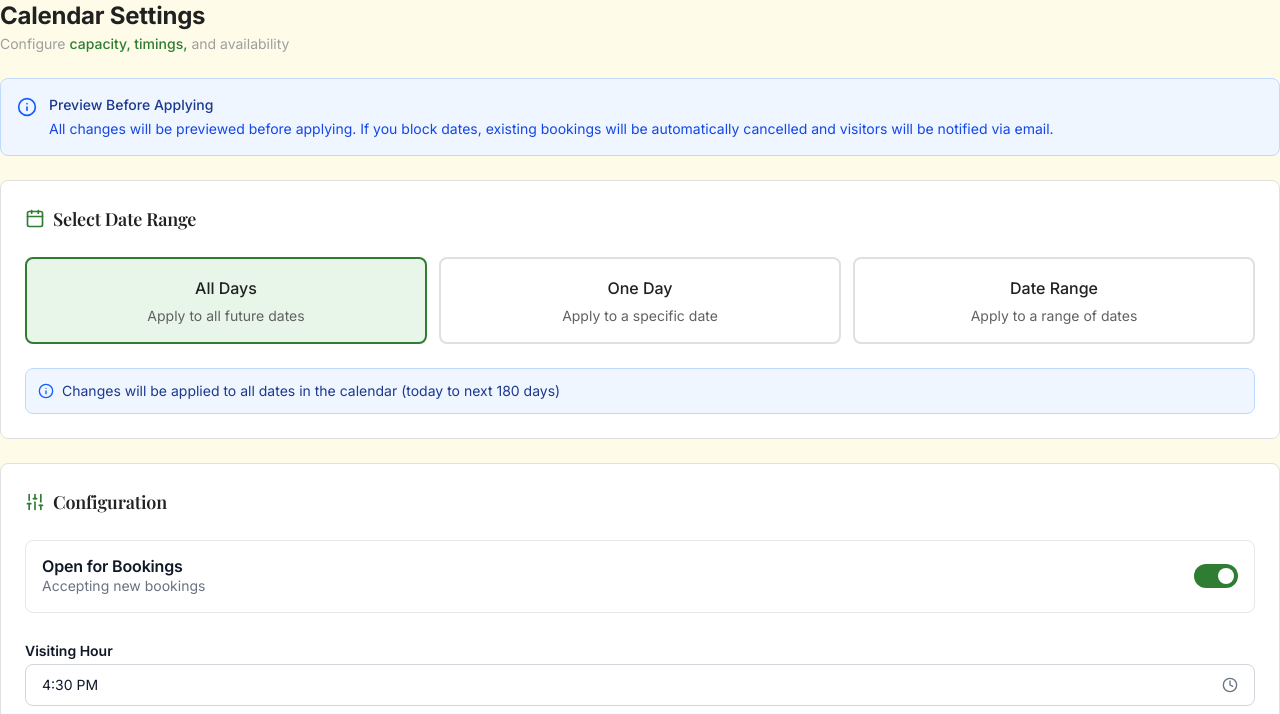
Scenario: Settings Page UI › updates visiting hour from the custom time picker
This screenshot has width=1280, height=714.
Click the button "4:30 PM" at {"x": 70, "y": 684}, box [25,664,1255,706]
(page scrolled)
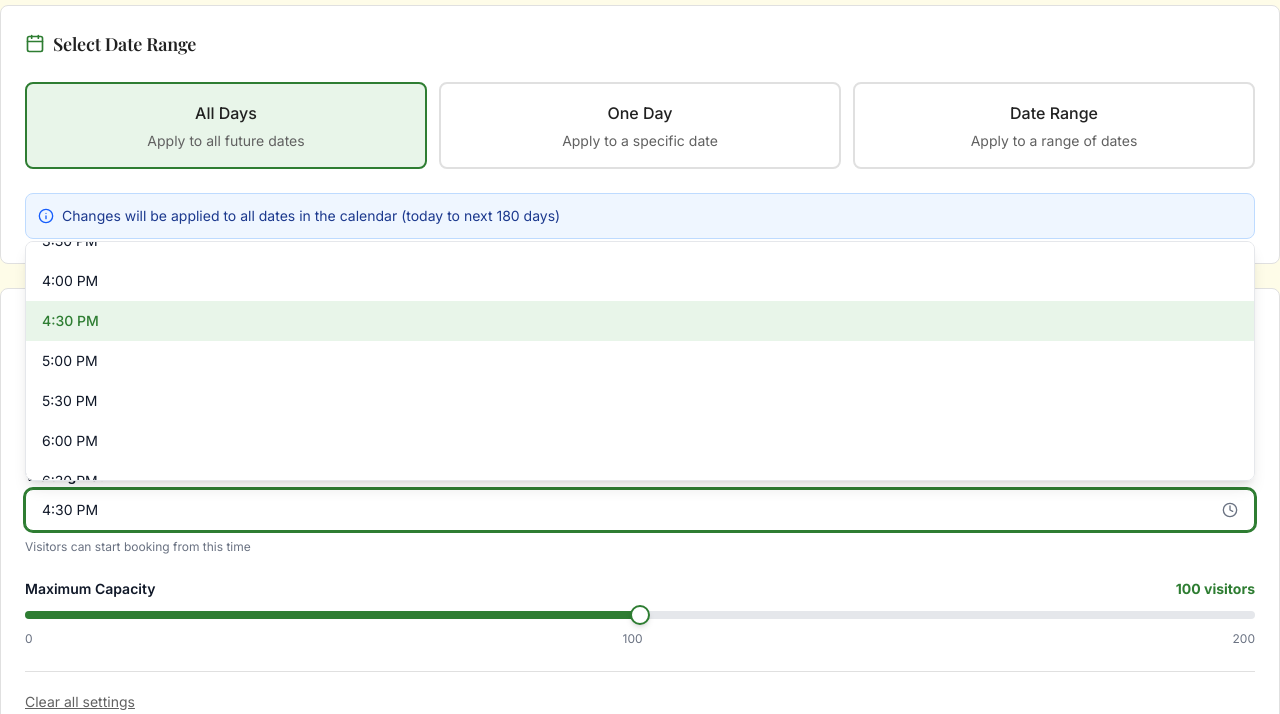
Click the button "5:00 PM" at {"x": 70, "y": 360}, box [26,341,1254,381]
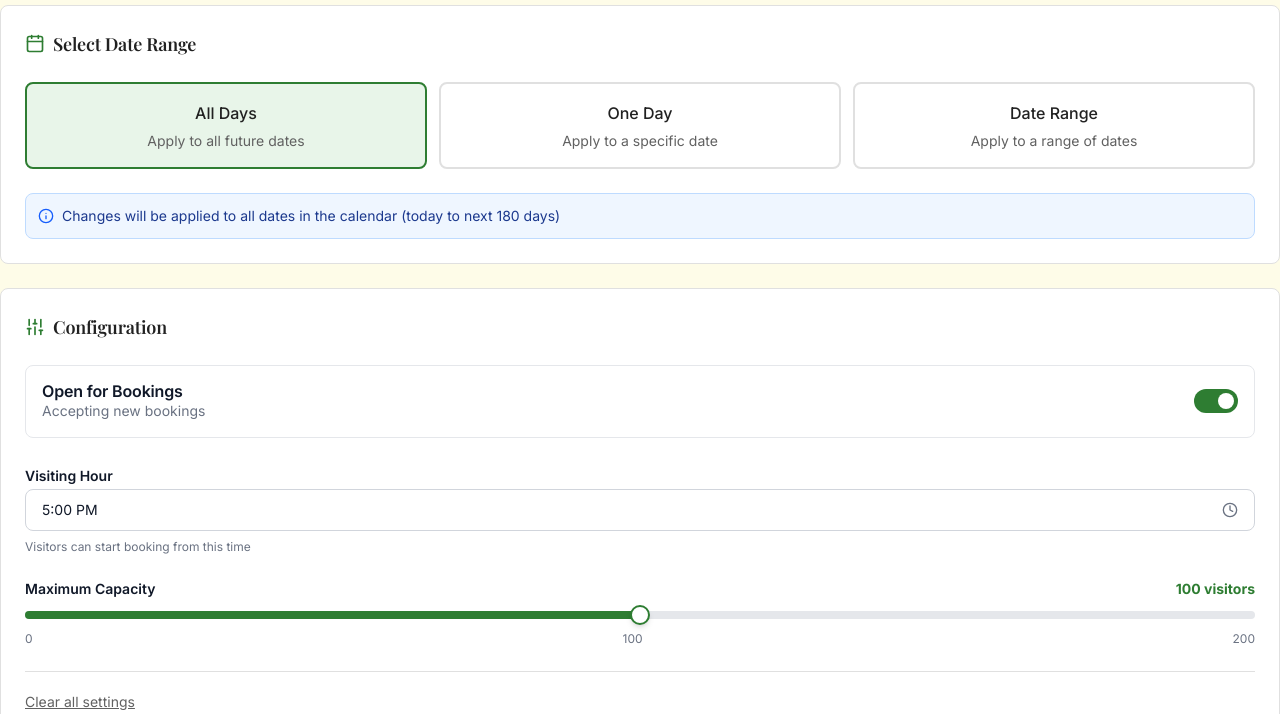
Expected: the button "5:00 PM" is shown, [25,489,1255,531]
